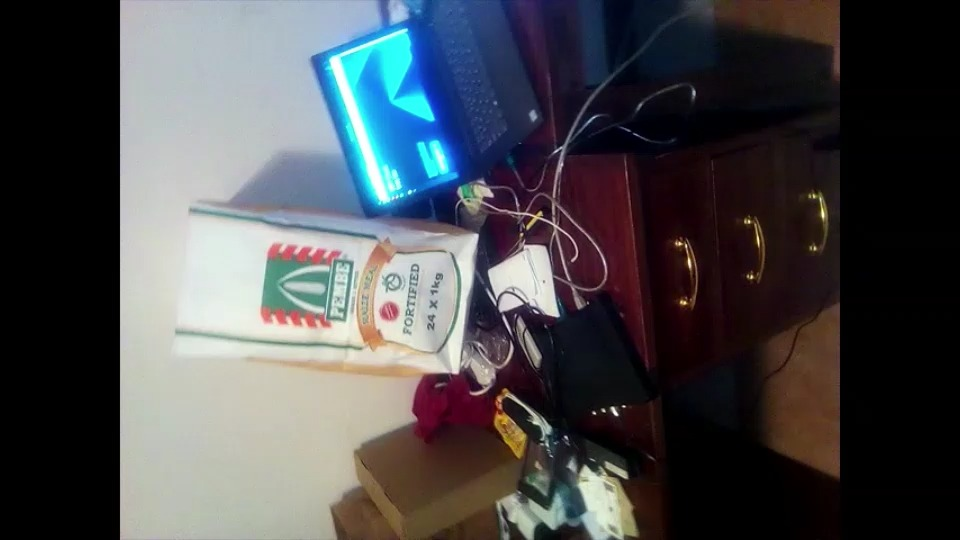maize_flour_green_label: (158, 211, 481, 371)
